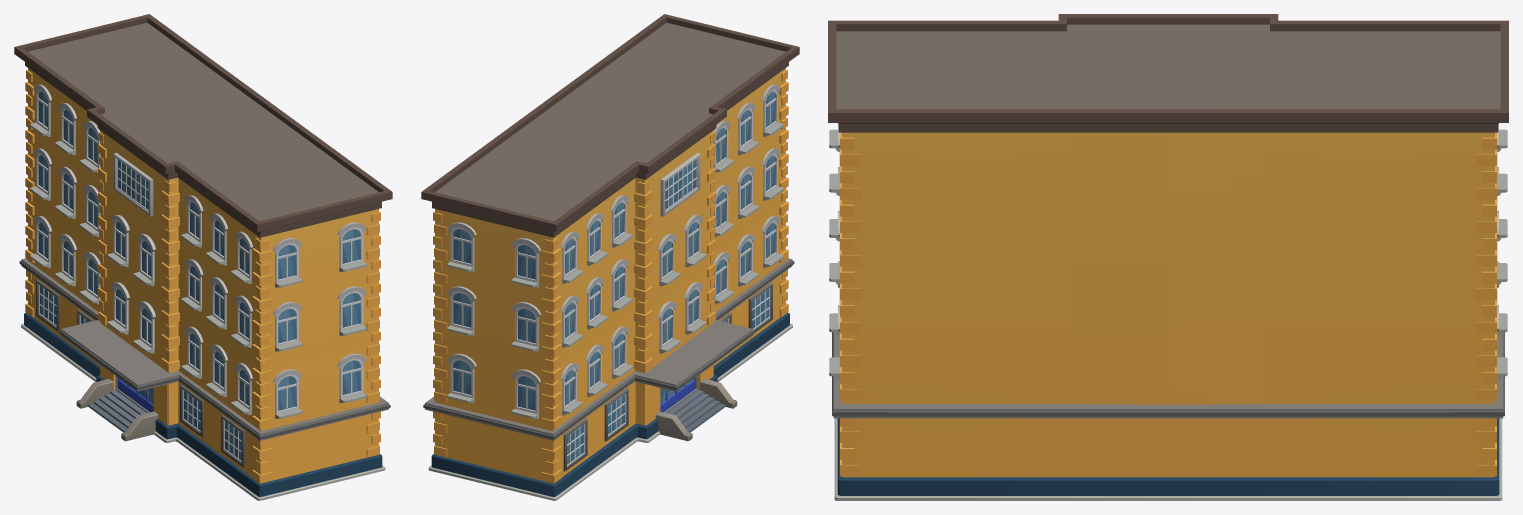
File: Building_6_E.fbx
3 views of the same model, side by side, from view 1: azimuth 30°, elevation 25°; view 2: azimuth 150°, elevation 25°; view 3: azimuth 270°, elevation 25° (orthographic). The views are drawn at different scales.
Parts seen in each view (by area): view 1: Building_6_E; view 2: Building_6_E; view 3: Building_6_E.
Boxes of the visible parts, x1,y1,x2,y2 form: Building_6_E: [14, 14, 392, 500]; Building_6_E: [421, 14, 799, 500]; Building_6_E: [828, 14, 1508, 500].
Size of the model in its own units: 935 by 1440 by 2273.
